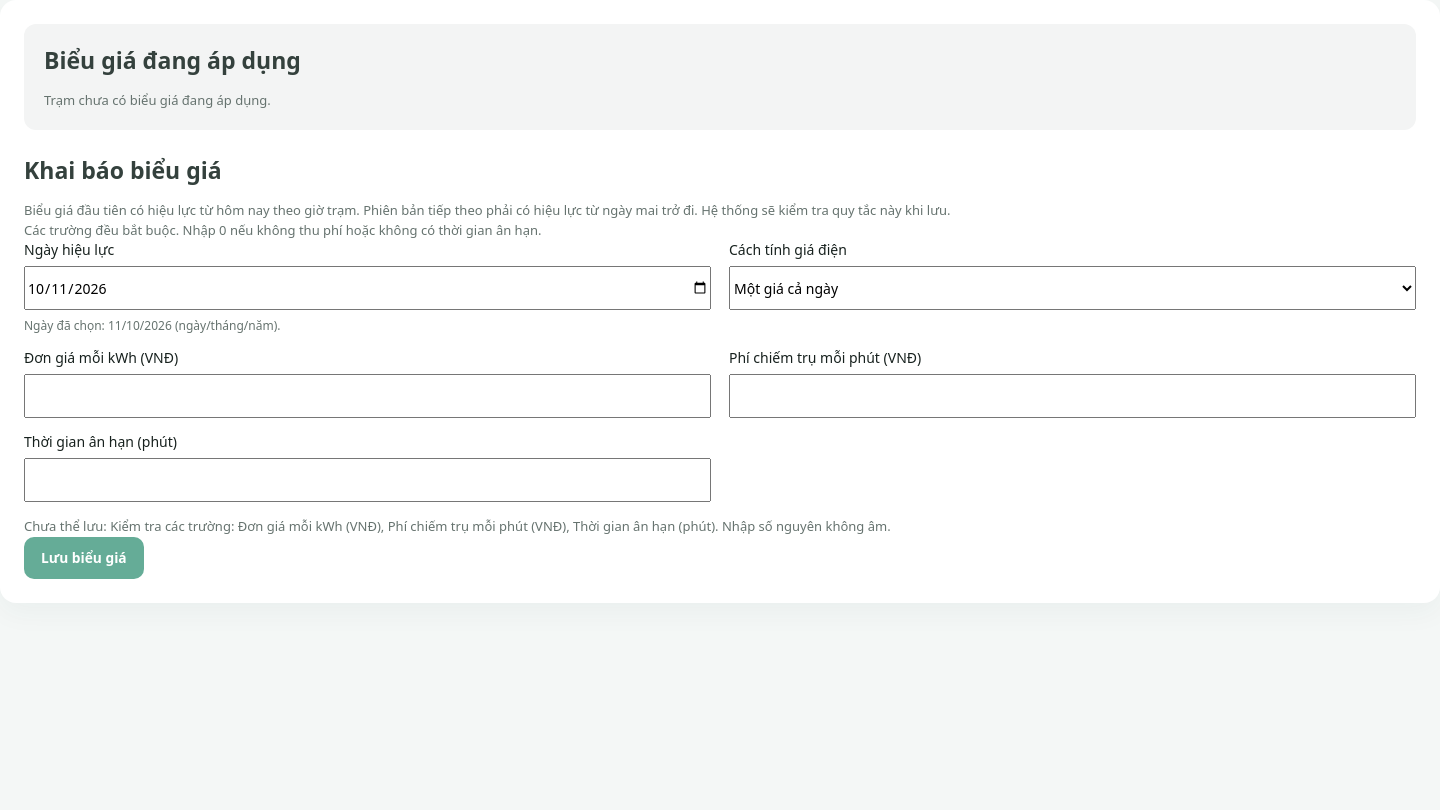
Scenario: blocks invalid effective date before a request when hasVersions=true
Type "3500" into the field labelled "Đơn giá mỗi kWh (VNĐ)" at x=368, y=396, box left=24, top=374, right=711, bottom=418
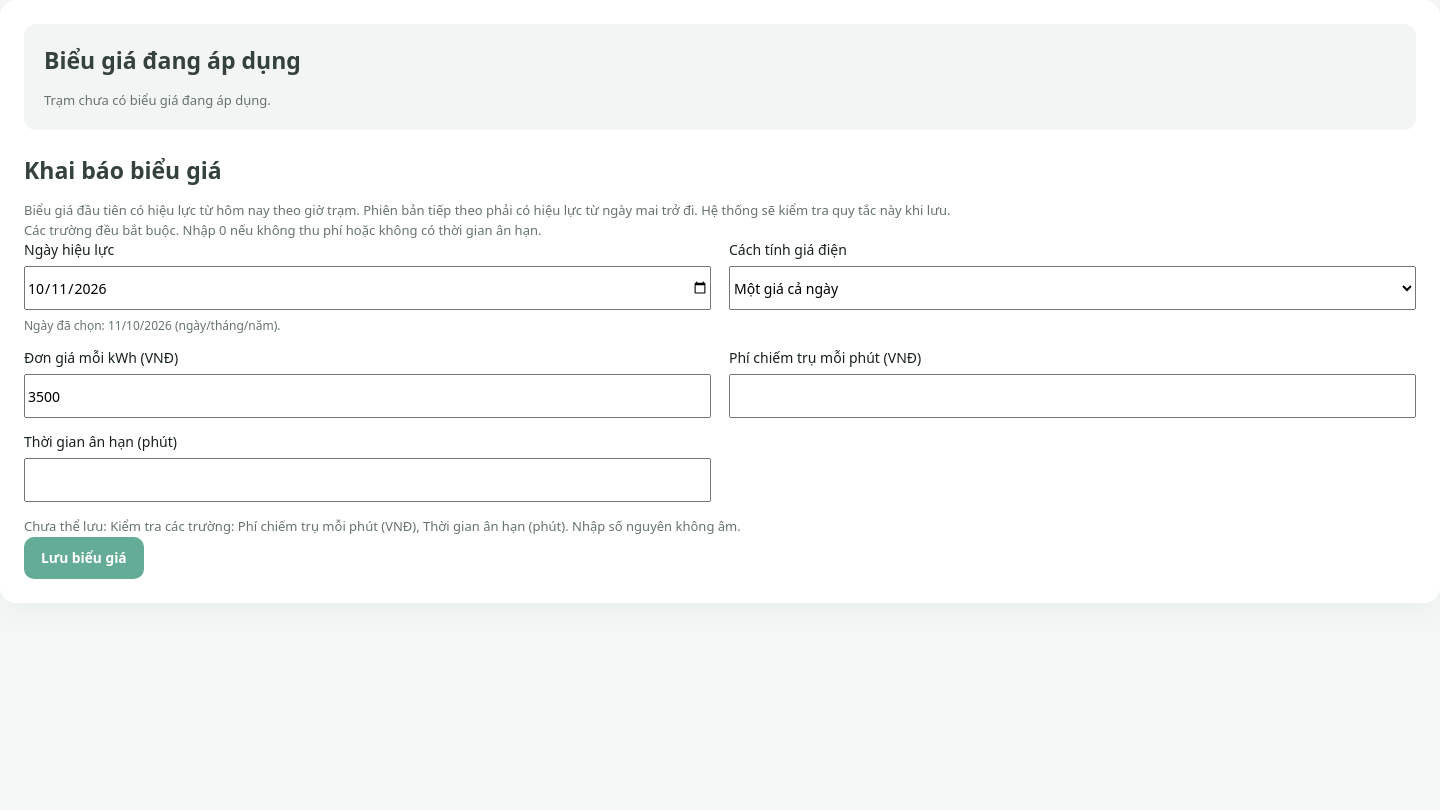
Type "500" into the field labelled "Phí chiếm trụ mỗi phút (VNĐ)" at x=1072, y=396, box left=729, top=374, right=1416, bottom=418
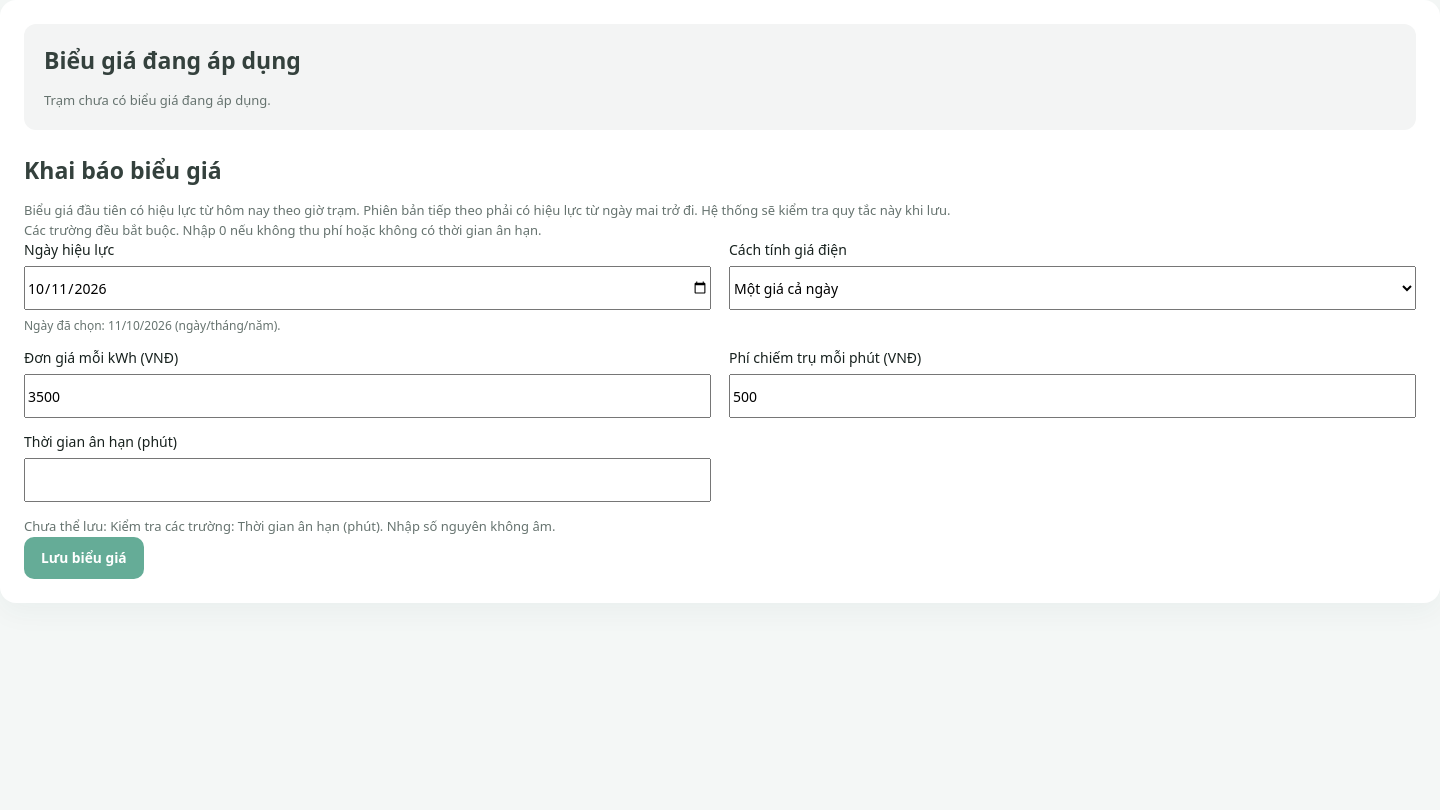
Type "5" into the field labelled "Thời gian ân hạn (phút)" at x=368, y=480, box left=24, top=458, right=711, bottom=502
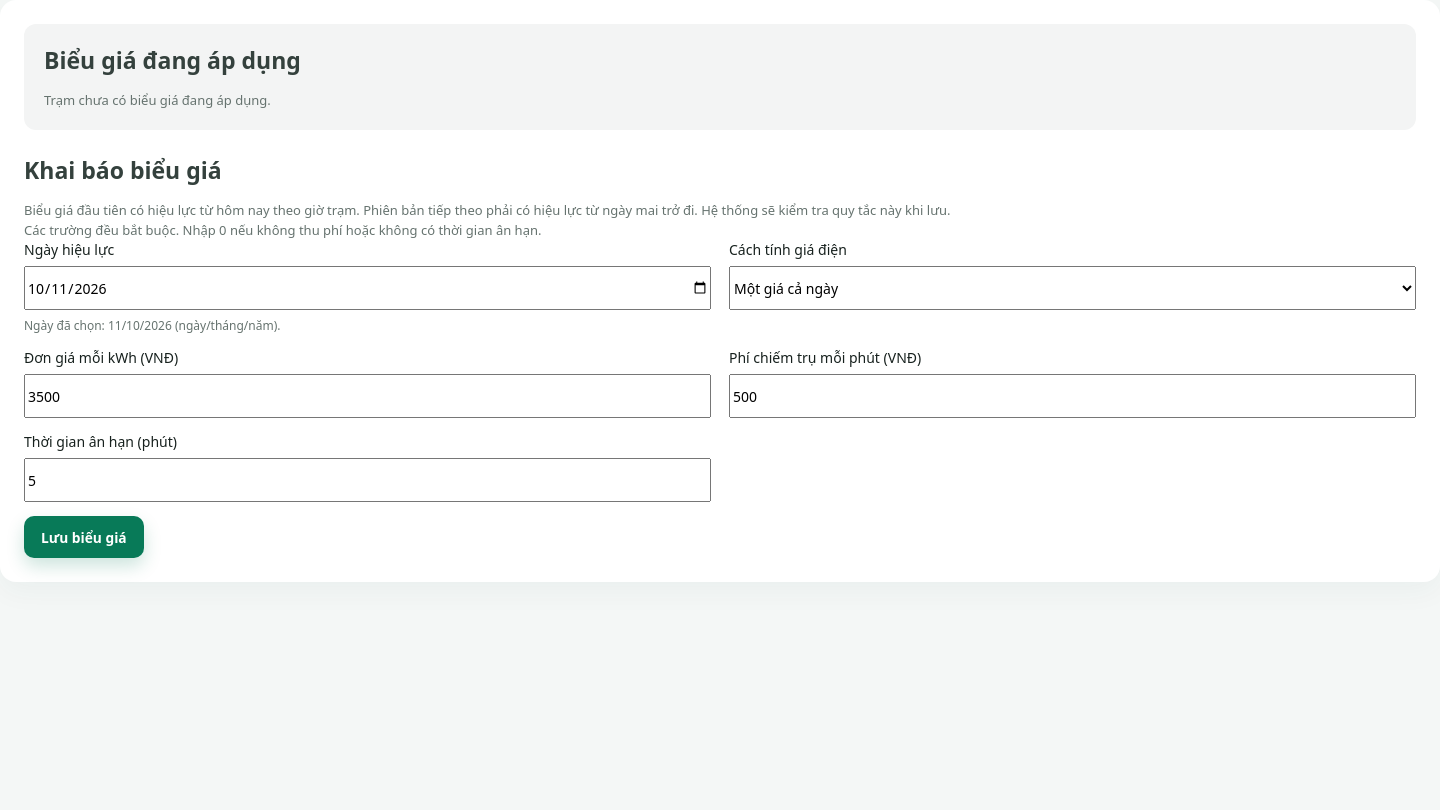
Type "2026-10-10" into the date field labelled "Ngày hiệu lực" at x=368, y=288, box left=24, top=266, right=711, bottom=310
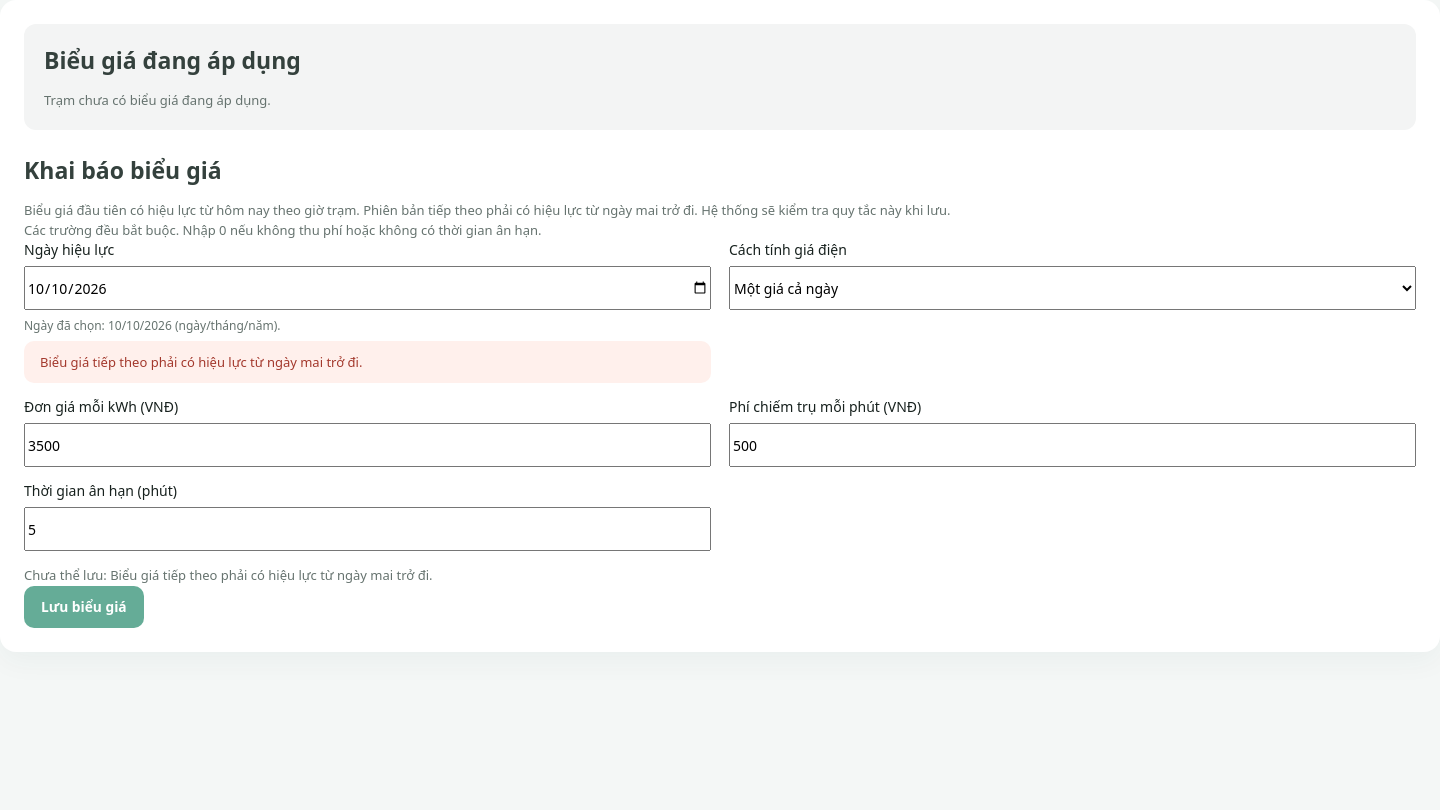
Check: the button "Lưu biểu giá" is disabled, box left=24, top=586, right=144, bottom=628
Check: the message "Biểu giá tiếp theo phải có hiệu lực từ ngày mai trở đi." is shown, box left=24, top=341, right=711, bottom=383
